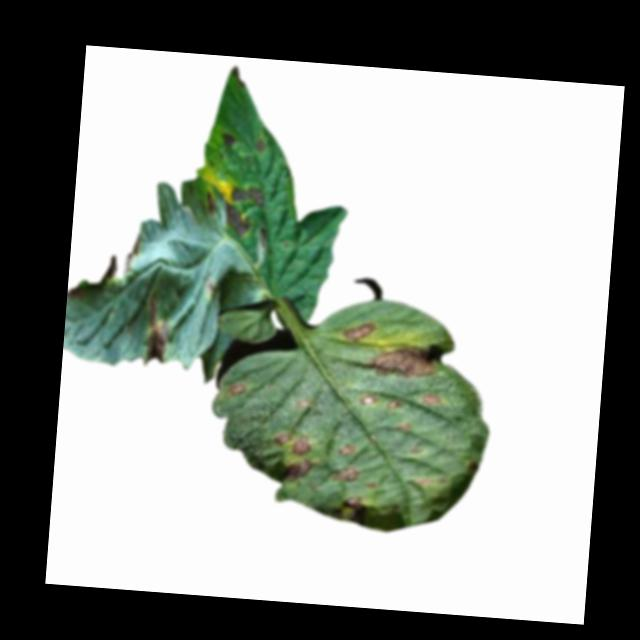Early_blight: (139, 285, 179, 365), (368, 347, 443, 382), (273, 428, 321, 457), (121, 227, 144, 282), (280, 454, 315, 485), (229, 183, 270, 207), (221, 203, 248, 237), (339, 320, 375, 344), (333, 461, 359, 486), (360, 390, 380, 410), (421, 390, 446, 406), (339, 440, 359, 458), (344, 492, 364, 508), (221, 130, 239, 147), (384, 396, 402, 413), (229, 381, 246, 396), (255, 135, 268, 153)
